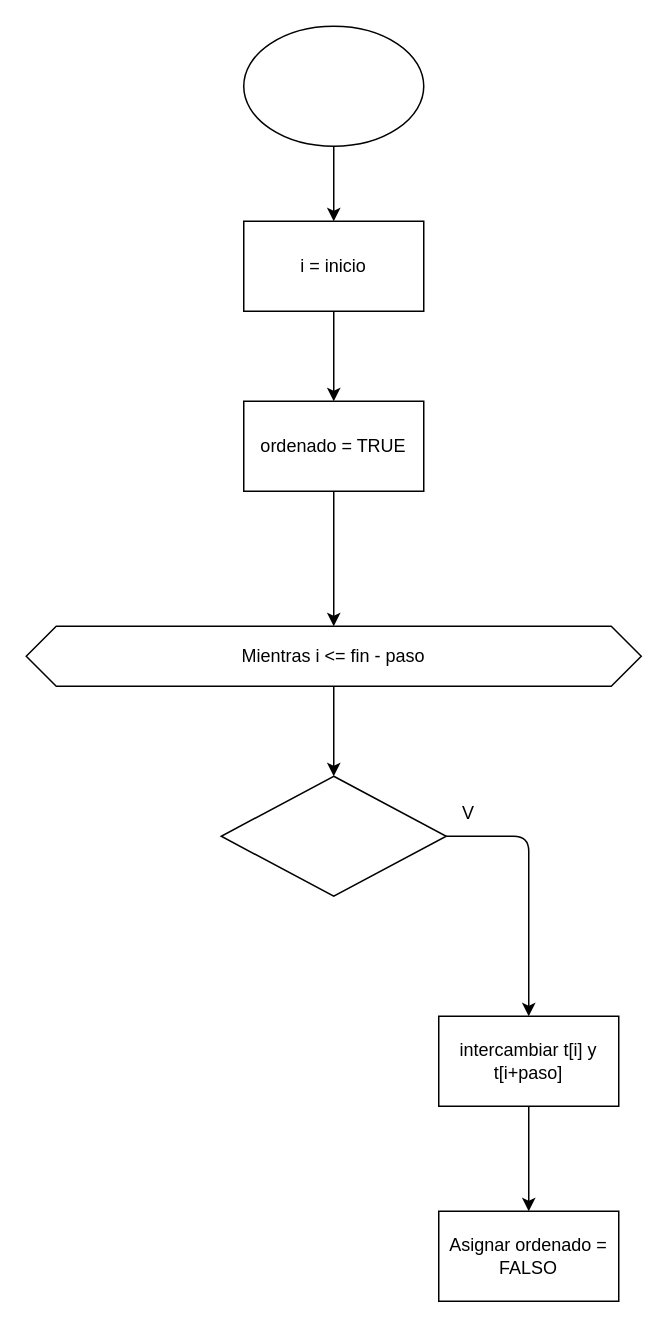
Image size: 668x1328. Some labels were removed from this diagram. The box of each missing label's shape, as (x1, y1, x2, y2) in pixels:
INICIO: (242, 25, 424, 146)
t[i] > t [i +paso]: (220, 775, 446, 896)
